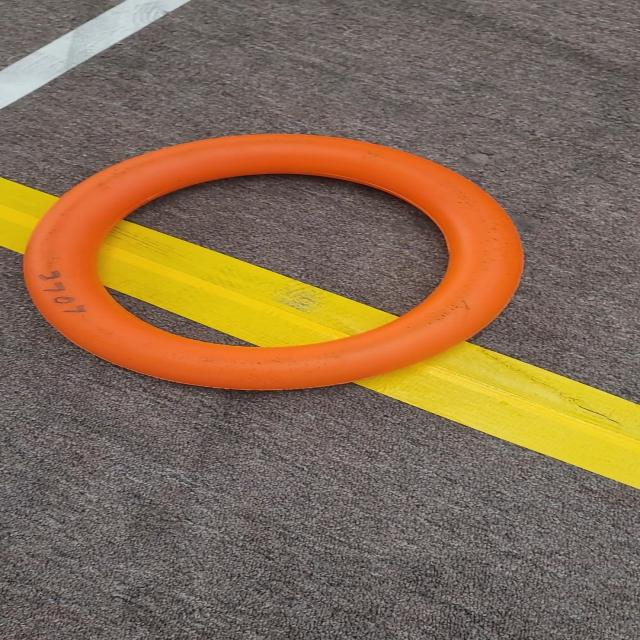note: (0, 132, 545, 397)
